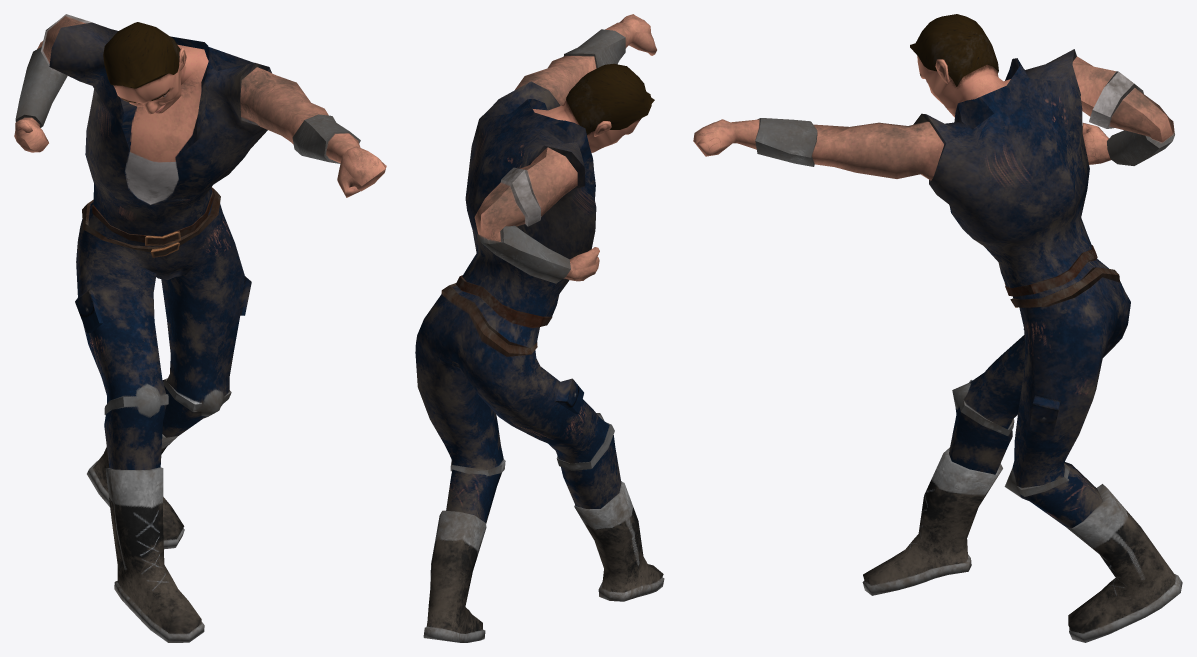
The model's file is Anim_ataque_d2_jugador.0034.obj.
3 renders of one model, left to right at view 1: azimuth 30°, elevation 25°; view 2: azimuth 150°, elevation 25°; view 3: azimuth 270°, elevation 25°, orthographic. The views are drawn at different scales.
Visible parts, largest first — view 1: polySurface1; view 2: polySurface1; view 3: polySurface1.
Boxes of the visible parts, left/top/right/bottom form: polySurface1: left=14, top=14, right=386, bottom=642; polySurface1: left=415, top=14, right=664, bottom=642; polySurface1: left=693, top=14, right=1182, bottom=642.
Bounding box in the file's own units: 3.16 × 8.57 × 6.59.
